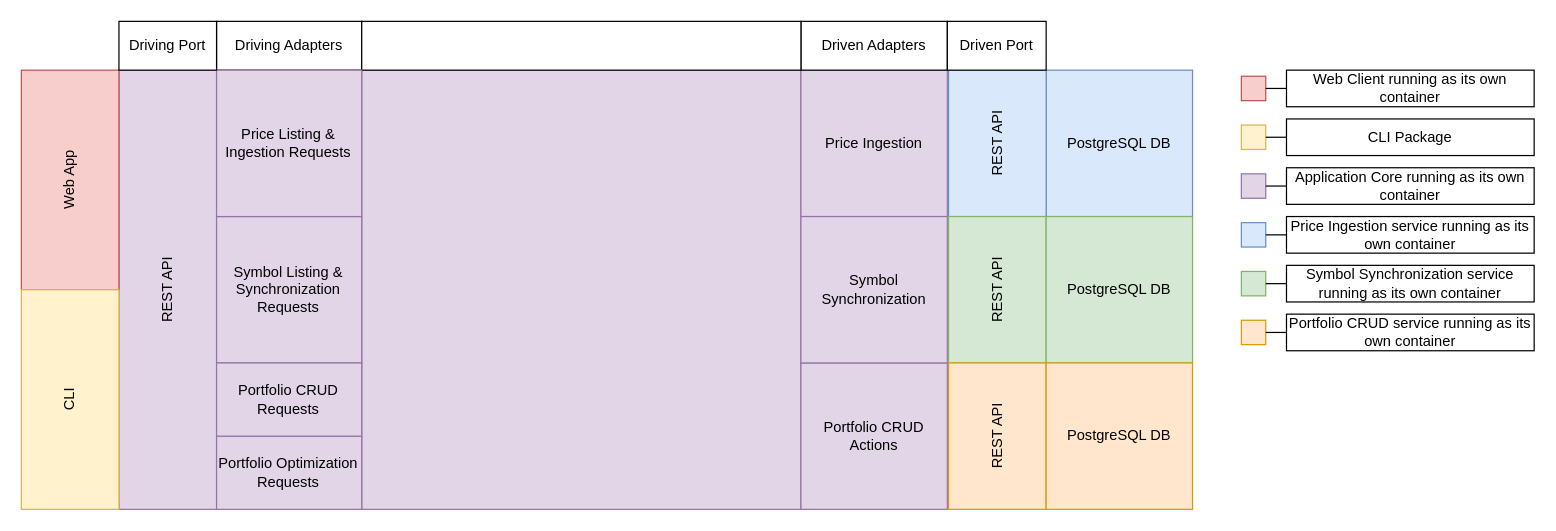
This 1556x531 diagram has some shape labels left out. Each missing label, with the centre of its shape:
"Application Core" goes at point (581, 45).
"Portfolio Math - Annualized Returns - Correlations - Risk/Sharpe Ratio/etc." goes at point (581, 289).
